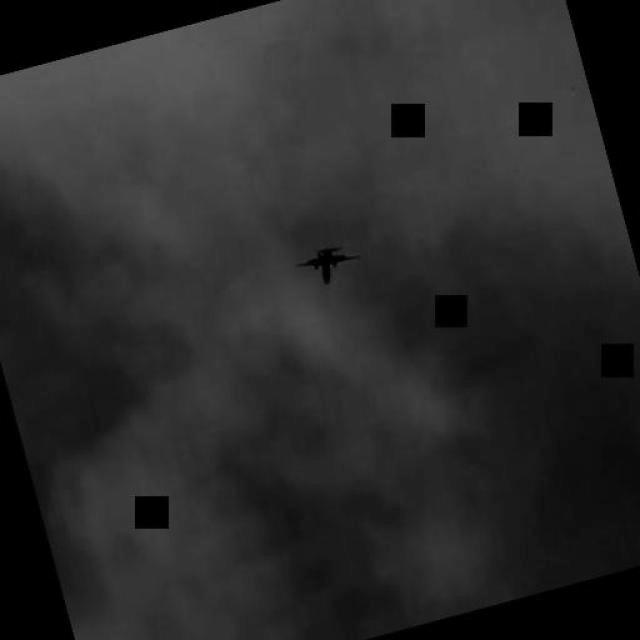aeroplane: (296, 242, 362, 291)
